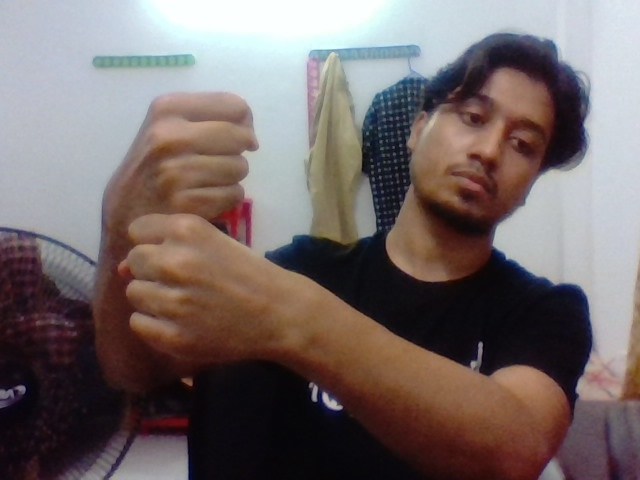G: (108, 72, 278, 377)
